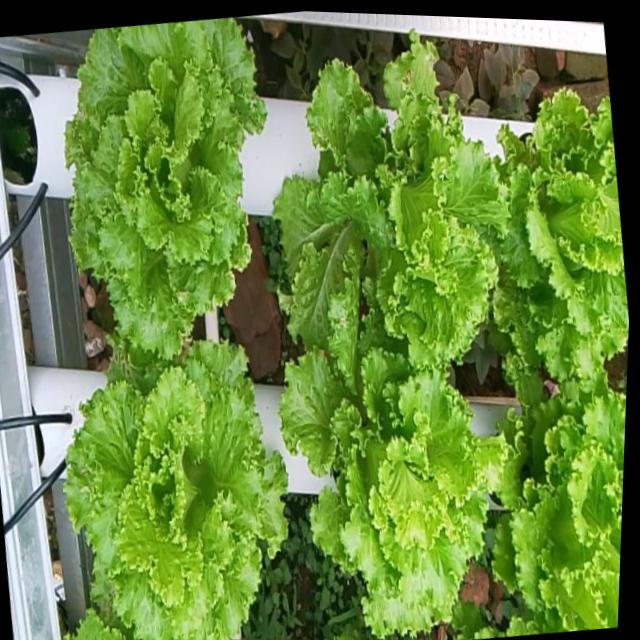Mature: (270, 38, 504, 369), (276, 308, 501, 636), (61, 18, 263, 357), (59, 337, 284, 640), (494, 88, 629, 376), (491, 370, 626, 631)
